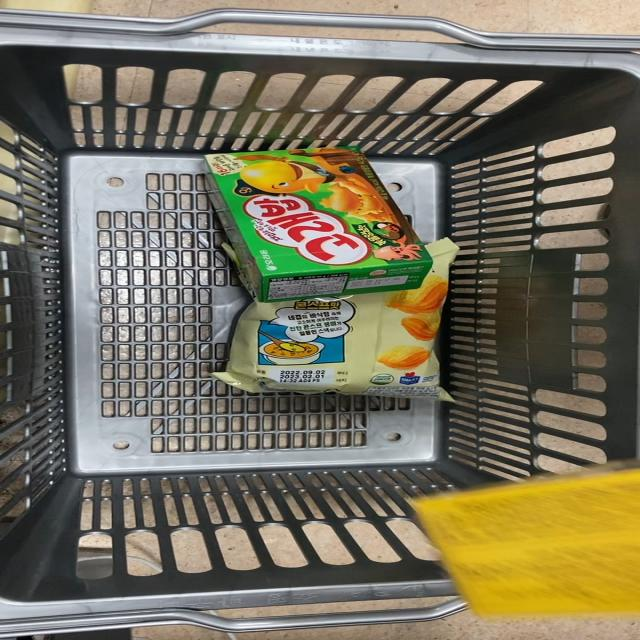ggobukchip: (232, 294, 464, 401)
goraebob: (203, 141, 421, 288)
